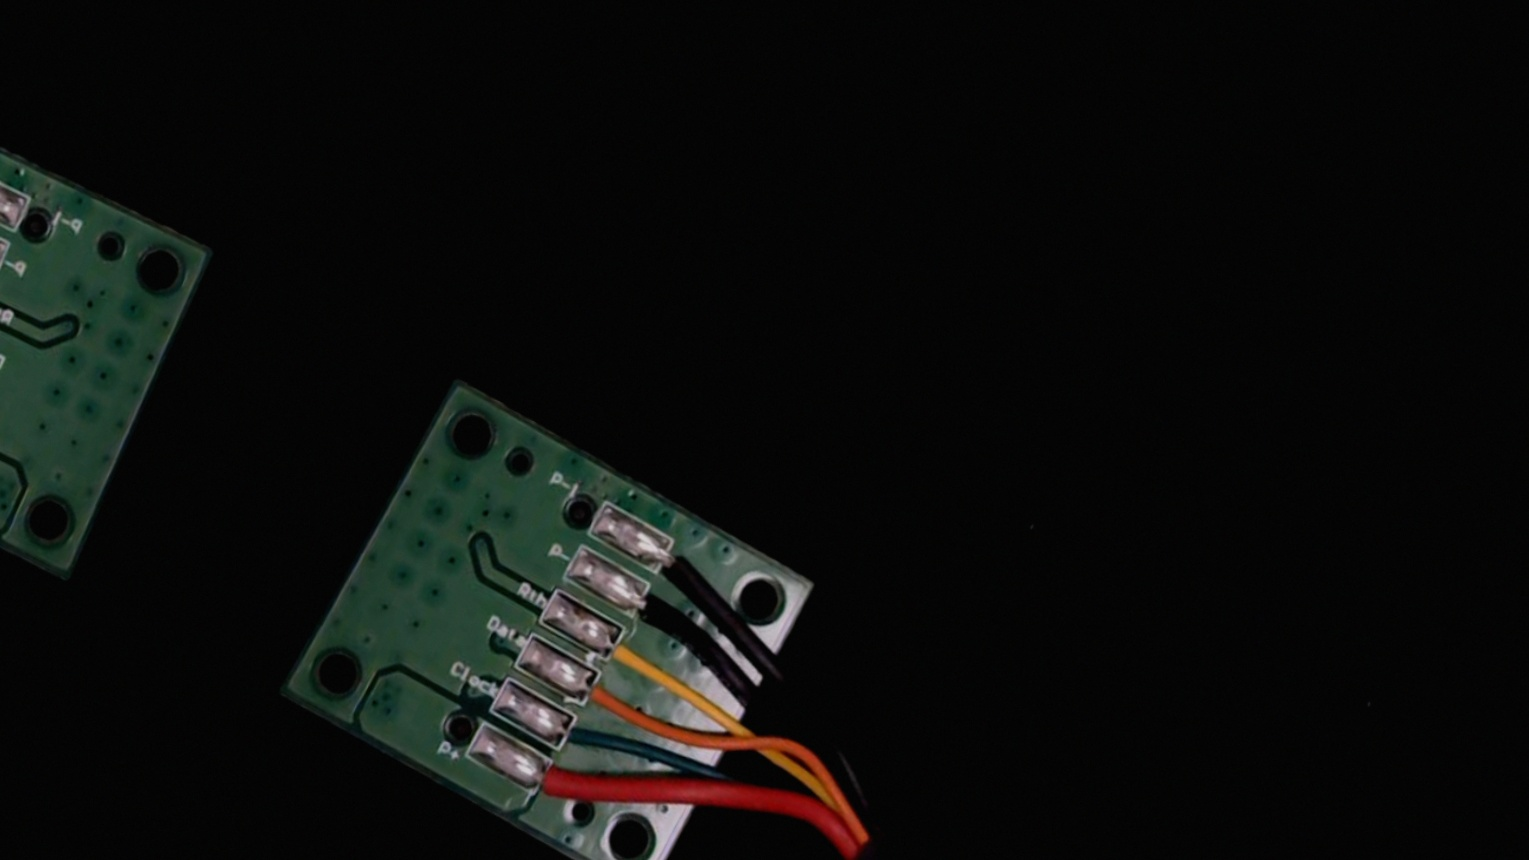Black: (614, 574, 700, 648)
Black1: (636, 527, 713, 594)
Green: (544, 707, 619, 774)
Orange: (566, 663, 657, 735)
Red: (521, 752, 605, 821)
Yellow: (584, 622, 683, 698)
